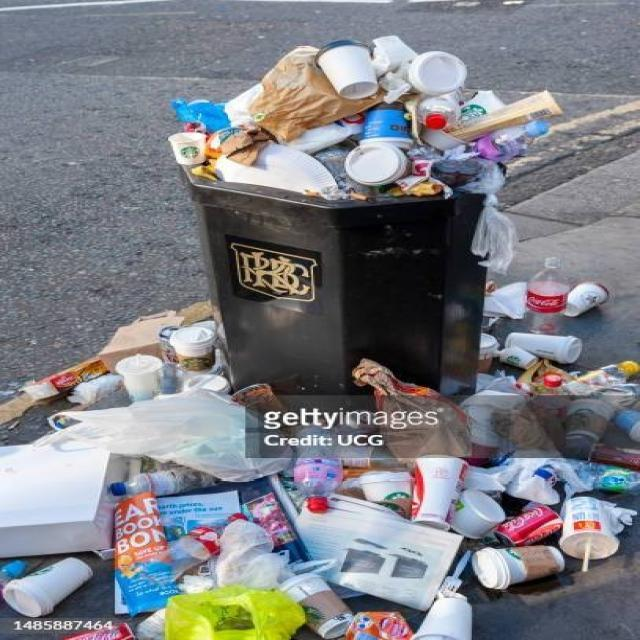Disposable: (216, 144, 336, 193), (558, 496, 635, 569), (346, 105, 414, 186), (2, 558, 92, 617), (412, 456, 468, 531), (472, 546, 564, 589), (318, 45, 380, 99), (410, 592, 472, 639), (408, 51, 466, 96), (507, 332, 583, 364), (355, 473, 410, 517), (115, 354, 164, 401), (169, 326, 216, 373), (167, 132, 207, 165), (498, 346, 538, 368)
Garbage: (2, 311, 639, 640), (169, 36, 562, 269), (483, 259, 611, 329)
Plastic_bottle: (526, 258, 570, 333), (476, 120, 549, 162), (109, 468, 214, 496), (169, 526, 223, 576), (293, 458, 342, 513), (419, 90, 460, 129), (227, 512, 248, 523)
can: (479, 502, 560, 547), (62, 622, 135, 639)
